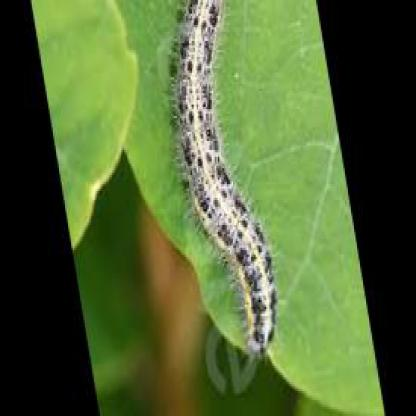pieris: (169, 0, 284, 351)
